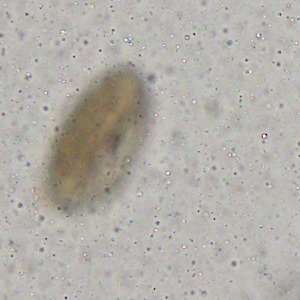Fasciola_hepatica_egg: (42, 61, 150, 216)
